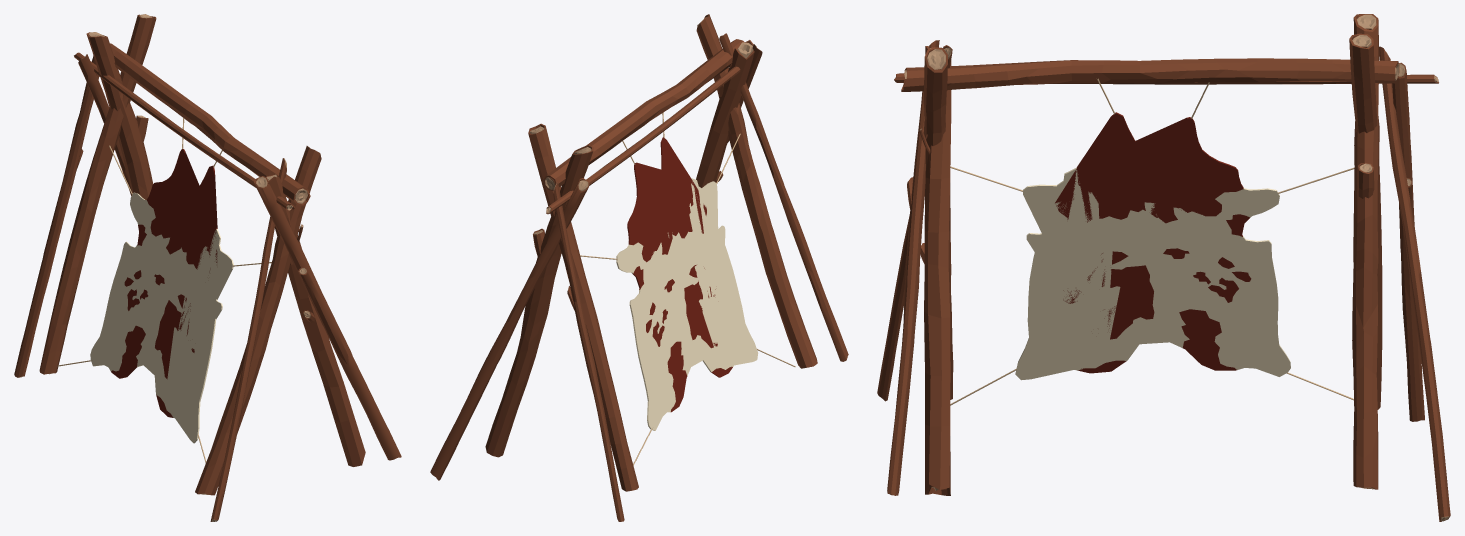
Rendered from sechoir.fbx.
3 views of the same model, side by side, from view 1: azimuth 30°, elevation 25°; view 2: azimuth 150°, elevation 25°; view 3: azimuth 270°, elevation 25° (orthographic). The views are drawn at different scales.
Visible parts, largest first — view 1: Plane.001, Cylinder; view 2: Plane.001, Cylinder; view 3: Plane.001, Cylinder.
Part boxes in pixels (x1,y1,x2,y2): Plane.001: [39, 14, 365, 495]; Cylinder: [14, 52, 401, 521]; Plane.001: [485, 14, 817, 491]; Cylinder: [430, 33, 848, 521]; Plane.001: [901, 14, 1399, 495]; Cylinder: [877, 40, 1450, 521].
Size of the model in its own units: 1.34 by 2.63 by 2.27.
